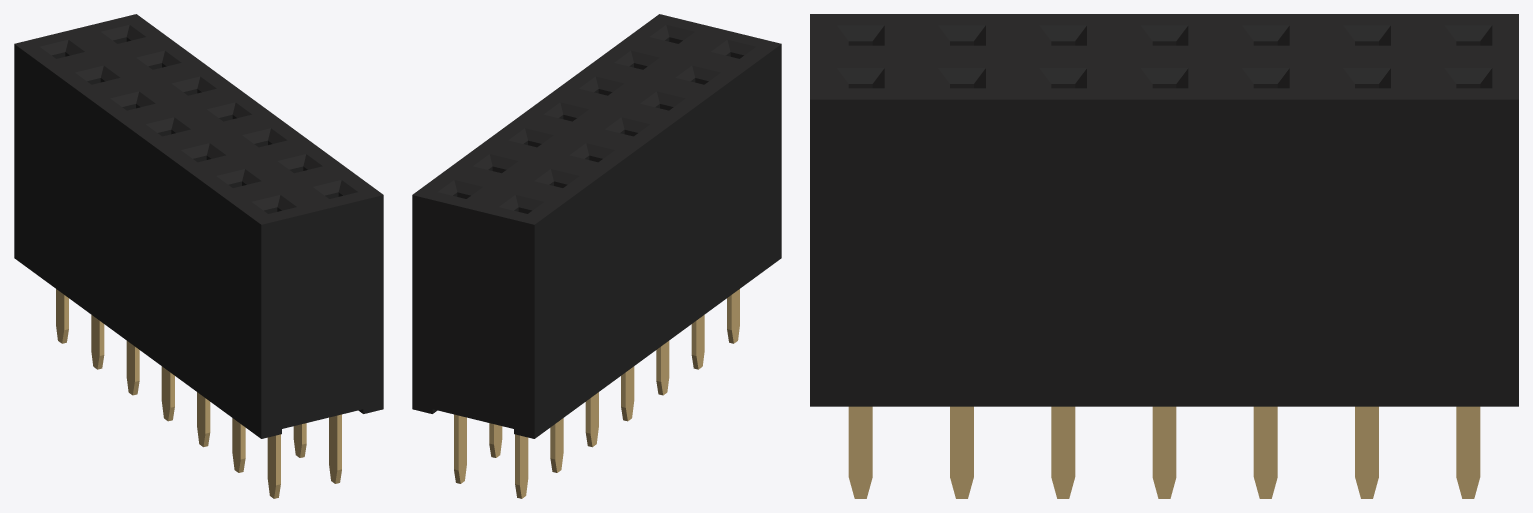
Rendered from PinSocket_2x07_P2.54mm_Vertical.glb.
3 renders of one model, left to right at view 1: azimuth 30°, elevation 25°; view 2: azimuth 150°, elevation 25°; view 3: azimuth 270°, elevation 25°, orthographic. The views are drawn at different scales.
Parts seen in each view (by area): view 1: =>[0:1:1:3]; view 2: =>[0:1:1:3]; view 3: =>[0:1:1:3].
Boxes of the visible parts, <box> form: =>[0:1:1:3]: <box>14,14,383,498</box>; =>[0:1:1:3]: <box>412,14,781,498</box>; =>[0:1:1:3]: <box>810,14,1518,498</box>.
Bounding box in the file's own units: 0.00508 × 0.0116 × 0.0178.
